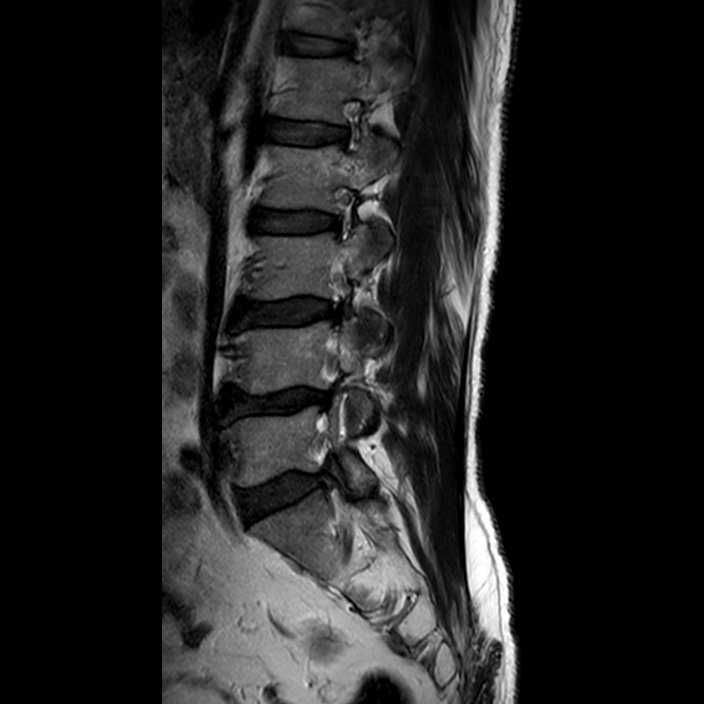RFS0: (325, 84, 373, 165), (319, 173, 369, 247)
